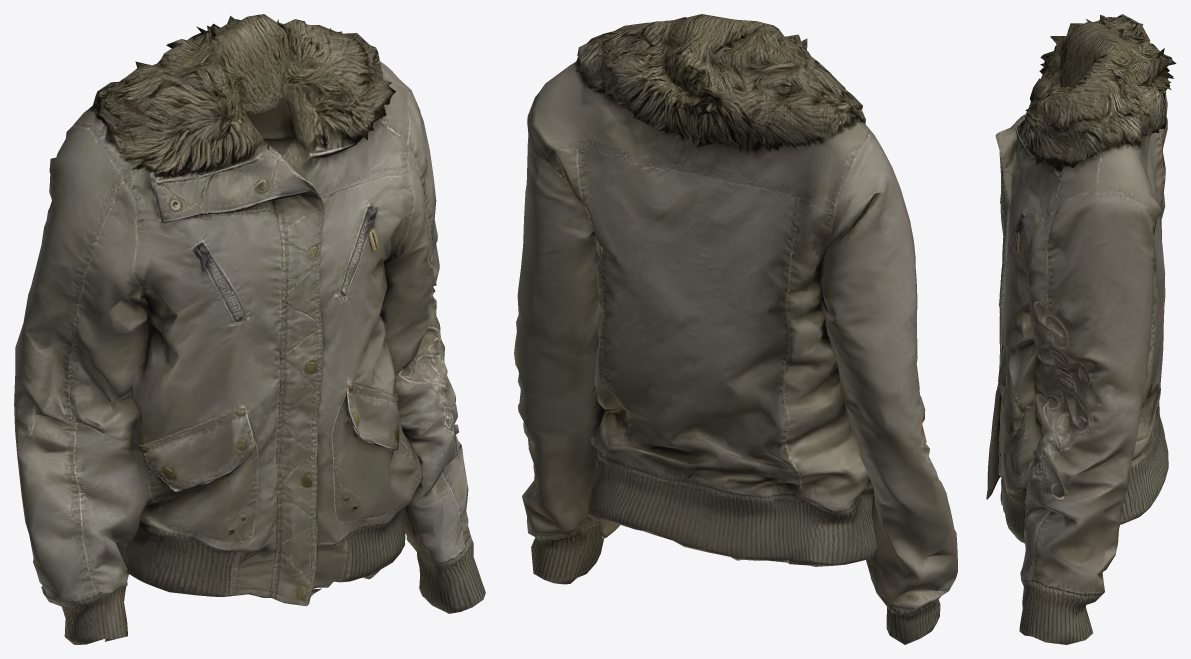
The picture shows the model from 3 angles, left to right: view 1: azimuth 30°, elevation 25°; view 2: azimuth 150°, elevation 25°; view 3: azimuth 270°, elevation 25°; orthographic projection. The views are drawn at different scales.
Parts seen in each view (by area): view 1: tripo_node_35c84db3-6b58-40a1-8b4e-9897cbf26bcf; view 2: tripo_node_35c84db3-6b58-40a1-8b4e-9897cbf26bcf; view 3: tripo_node_35c84db3-6b58-40a1-8b4e-9897cbf26bcf.
Part boxes in pixels (left/top/right/bottom): tripo_node_35c84db3-6b58-40a1-8b4e-9897cbf26bcf: left=14, top=14, right=485, bottom=644; tripo_node_35c84db3-6b58-40a1-8b4e-9897cbf26bcf: left=514, top=14, right=957, bottom=644; tripo_node_35c84db3-6b58-40a1-8b4e-9897cbf26bcf: left=986, top=14, right=1176, bottom=644.
Bounding box in the file's own units: 0.5847 × 0.7978 × 0.2565.
1 material, 1 textured.
